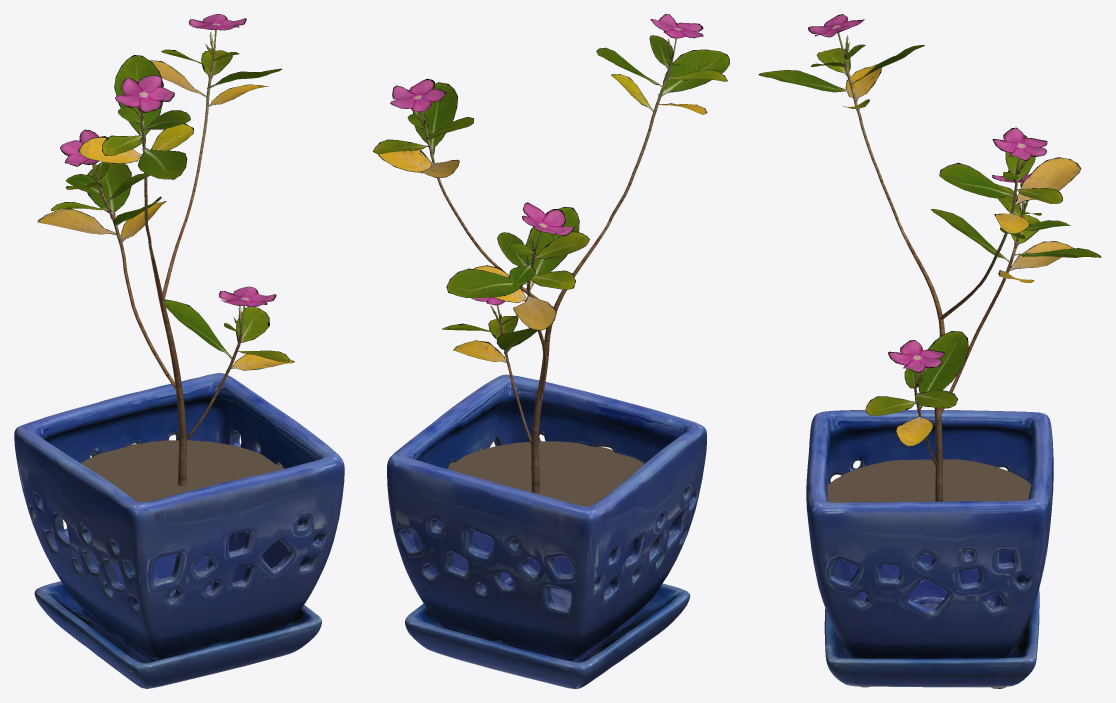
The model's file is ph-periwinkle-blue.glb.
The picture shows the model from 3 angles, left to right: view 1: azimuth 30°, elevation 25°; view 2: azimuth 150°, elevation 25°; view 3: azimuth 270°, elevation 25°; orthographic projection. The views are drawn at different scales.
Parts seen in each view (by area): view 1: Down_To_Earth_Ceramic_Orchid_Pot_Asst_Blue, periwinkle_plant_04_LOD0, soil; view 2: Down_To_Earth_Ceramic_Orchid_Pot_Asst_Blue, periwinkle_plant_04_LOD0, soil; view 3: Down_To_Earth_Ceramic_Orchid_Pot_Asst_Blue, periwinkle_plant_04_LOD0, soil.
Part boxes in pixels (x1,y1,x2,y2): Down_To_Earth_Ceramic_Orchid_Pot_Asst_Blue: [14, 373, 344, 688]; periwinkle_plant_04_LOD0: [37, 14, 294, 485]; soil: [81, 440, 283, 502]; Down_To_Earth_Ceramic_Orchid_Pot_Asst_Blue: [387, 374, 706, 688]; periwinkle_plant_04_LOD0: [373, 14, 729, 493]; soil: [447, 441, 644, 506]; Down_To_Earth_Ceramic_Orchid_Pot_Asst_Blue: [806, 410, 1053, 688]; periwinkle_plant_04_LOD0: [758, 14, 1101, 501]; soil: [827, 459, 1031, 553].
Bounding box in the file's own units: 0.1558 × 0.3543 × 0.1842.
Materials: 3 (2 with a texture image).
